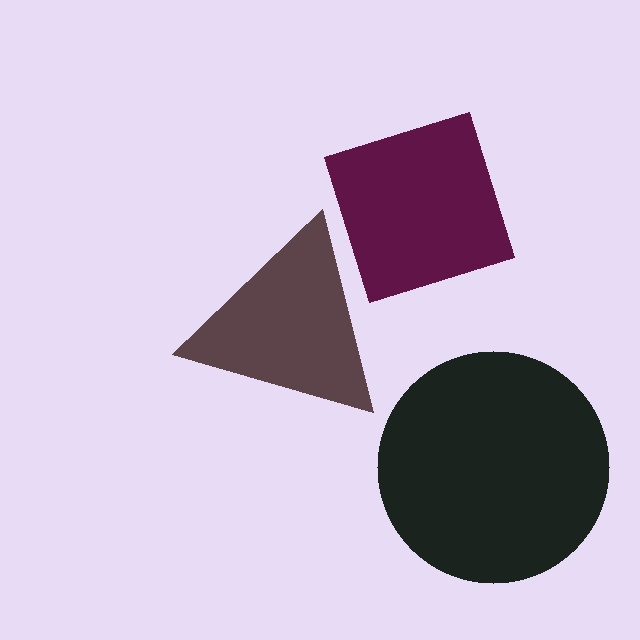circle: (376, 351, 609, 584)
square: (323, 111, 514, 302)
triangle: (171, 208, 373, 412)
